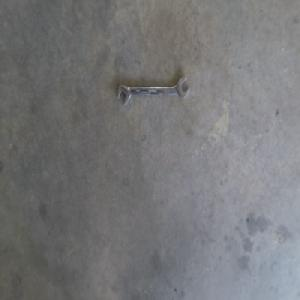Wrench: (116, 76, 191, 107)
